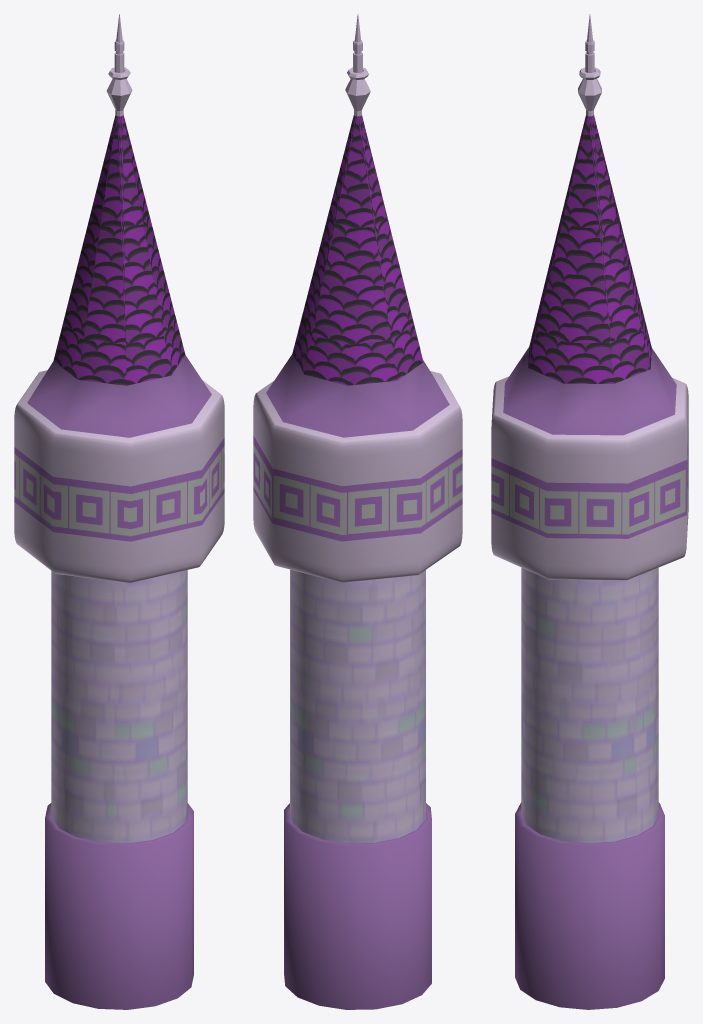
The model's file is Prefab_Studio_None.fbx.
The picture shows the model from 3 angles, left to right: view 1: azimuth 30°, elevation 25°; view 2: azimuth 150°, elevation 25°; view 3: azimuth 270°, elevation 25°; orthographic projection.
Parts seen in each view (by area): view 1: Studio_None_004; view 2: Studio_None_004; view 3: Studio_None_004.
Boxes of the visible parts, bbox=[...] form: Studio_None_004: bbox=[14, 14, 224, 1009]; Studio_None_004: bbox=[253, 14, 462, 1009]; Studio_None_004: bbox=[491, 14, 688, 1009].
Bounding box in the file's own units: 43.12 × 232 × 43.12.
